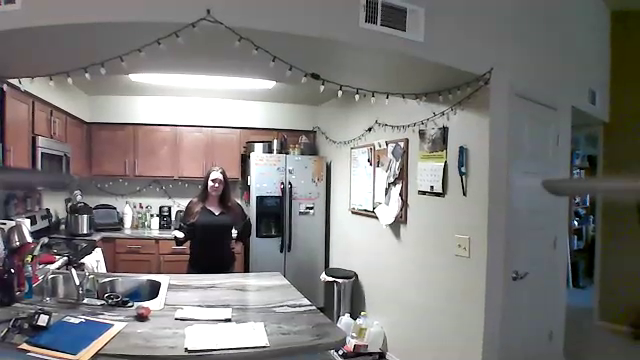land: (167, 228, 191, 245)
